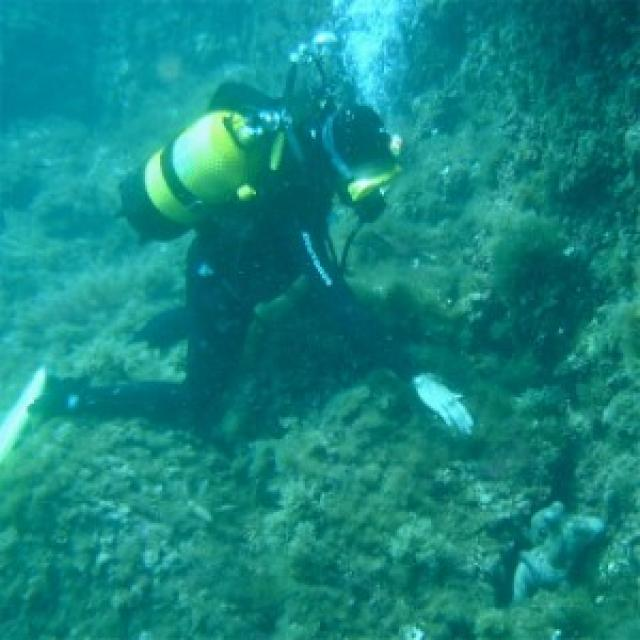Octo: (500, 497, 609, 603)
